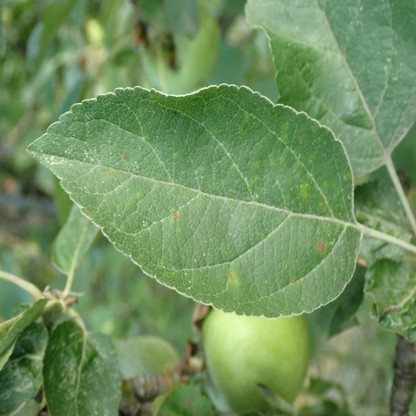powdery_mildew: (85, 333, 121, 416), (56, 336, 76, 399), (0, 363, 33, 399), (21, 325, 38, 340)
scab: (126, 190, 142, 206), (279, 121, 290, 144), (299, 182, 309, 201), (169, 207, 181, 221), (228, 268, 237, 286), (179, 187, 192, 199), (317, 238, 326, 254), (250, 173, 260, 186), (307, 152, 316, 164), (299, 128, 306, 143), (105, 167, 115, 177), (279, 158, 287, 170), (318, 199, 326, 211), (194, 196, 203, 206), (251, 159, 261, 168), (242, 216, 250, 226), (124, 151, 130, 162), (283, 261, 289, 270), (260, 230, 266, 239), (290, 276, 296, 284), (292, 259, 298, 265)
